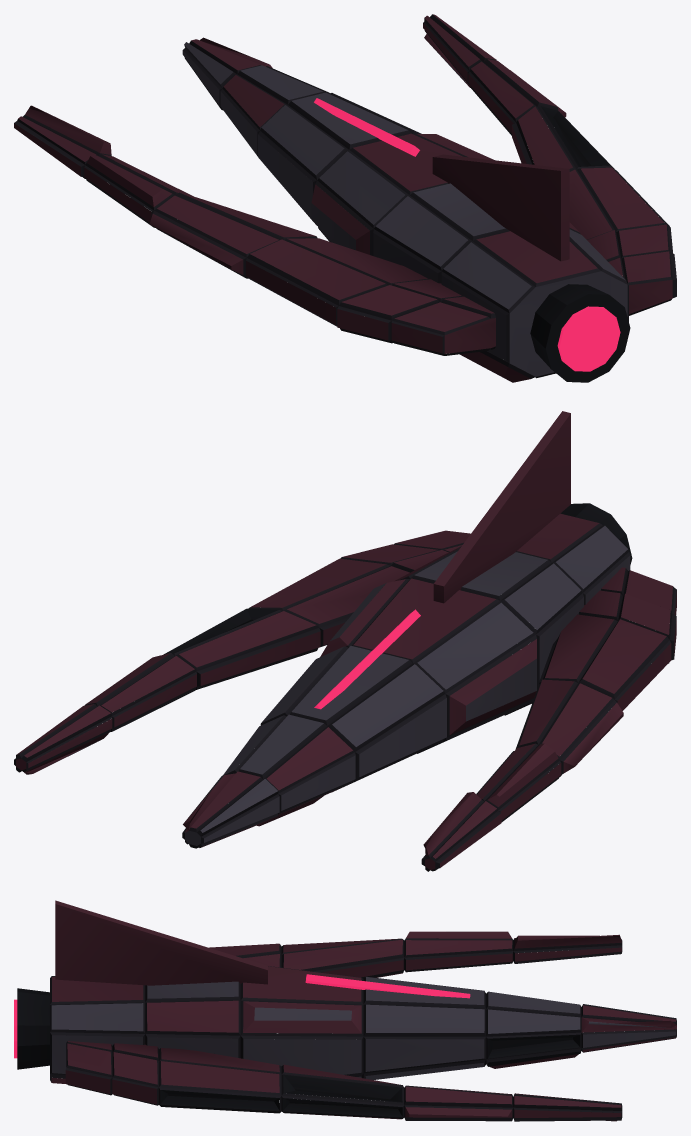
The model's file is drone.glb.
3 renders of one model, top to bottom at view 1: azimuth 30°, elevation 25°; view 2: azimuth 150°, elevation 25°; view 3: azimuth 270°, elevation 25°, orthographic. The views are drawn at different scales.
Visible parts, largest first — view 1: drone; view 2: drone; view 3: drone.
Boxes of the visible parts, x1=… form: drone: x1=14, y1=14, x2=676, y2=382; drone: x1=14, y1=411, x2=676, y2=871; drone: x1=14, y1=900, x2=676, y2=1121.
Size of the model in its own units: 8.1 by 3.83 by 13.
